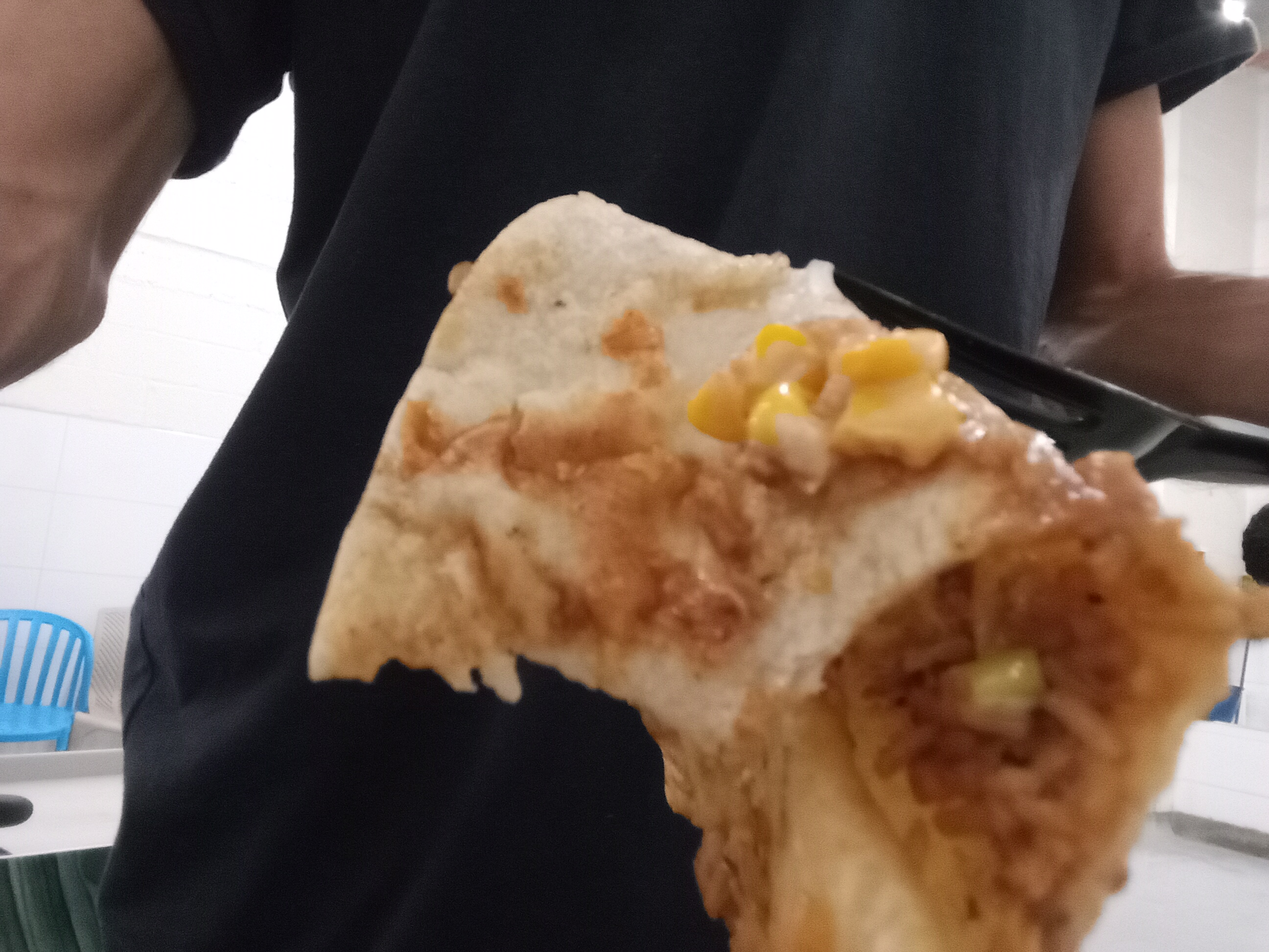Organico: (308, 189, 1238, 952)
